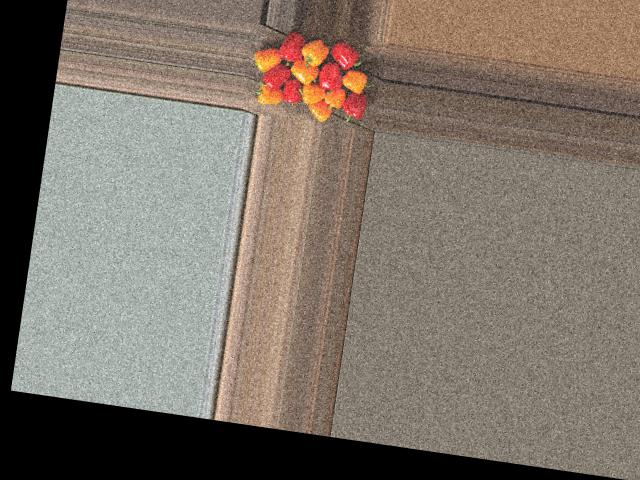bell_pepper: (251, 40, 290, 75)
